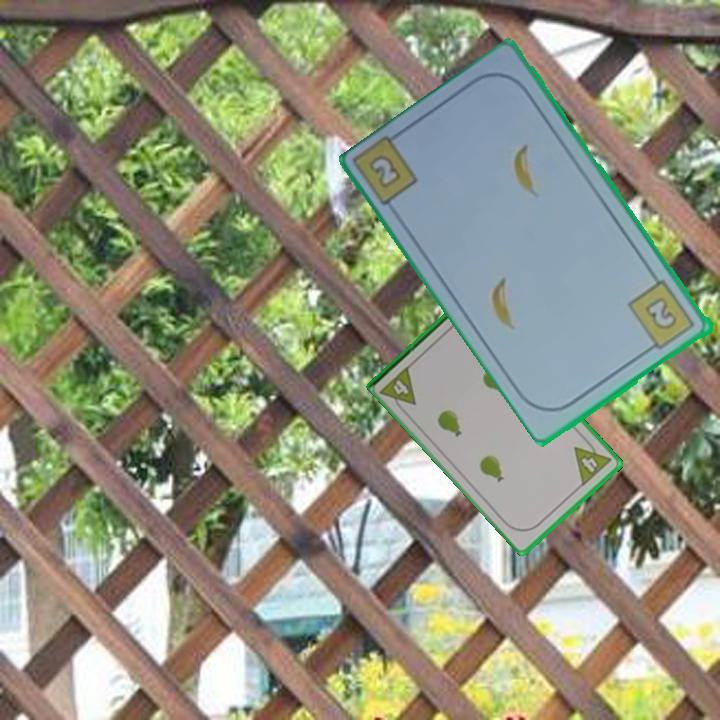2b: (624, 276, 699, 356), (365, 151, 405, 192)
4p: (571, 434, 614, 489), (377, 362, 419, 416)
